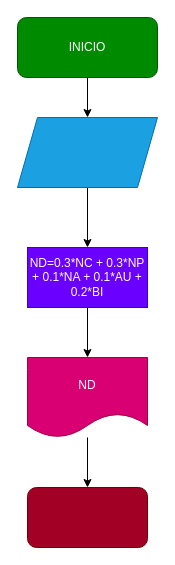
Some shapes in this 175 by 565 pixel diagram are drawn without their labels. The centre of each missing label's shape, as x and y in pixels:
"FIN" goes at point 87,517.
"NC,CP,NA, AU,BI" goes at point 87,152.
